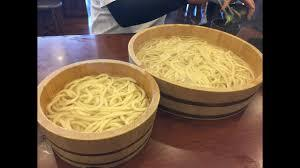kamaage: (128, 22, 264, 132), (36, 57, 163, 168)
